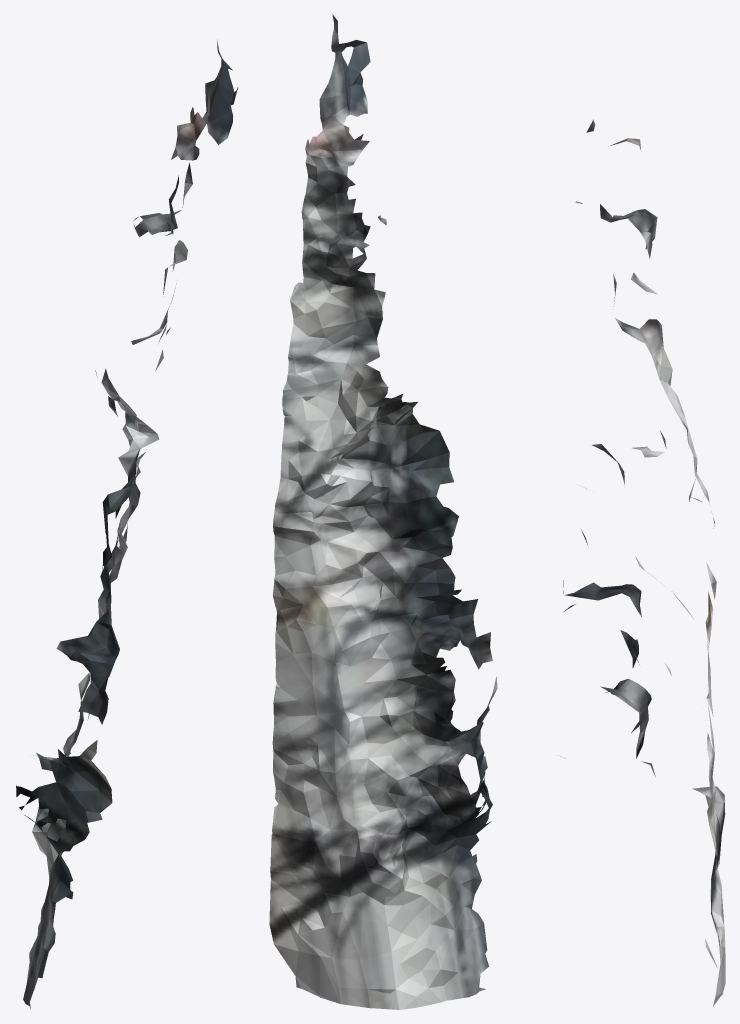
3 renders of one model, left to right at view 1: azimuth 30°, elevation 25°; view 2: azimuth 150°, elevation 25°; view 3: azimuth 270°, elevation 25°, orthographic. The views are drawn at different scales.
Bounding box in the file's own units: 0.403 × 2.08 × 0.3737.
Materials: 1 (1 with a texture image).
